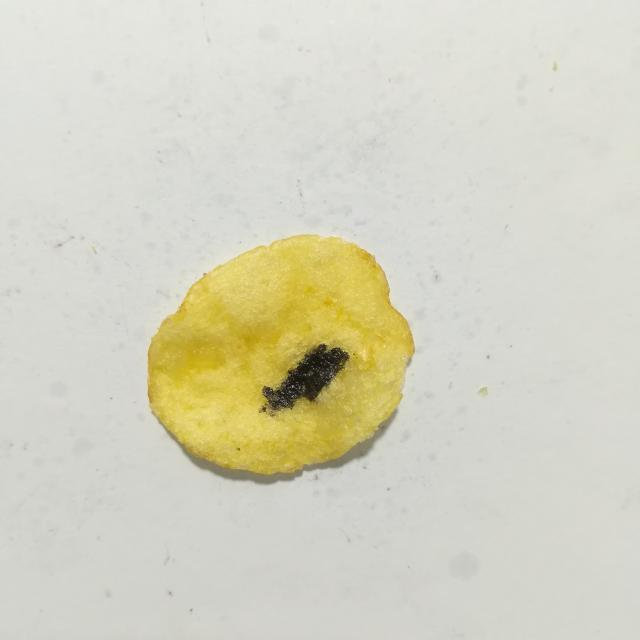chip: (148, 235, 414, 474)
damaged: (259, 344, 350, 416)
